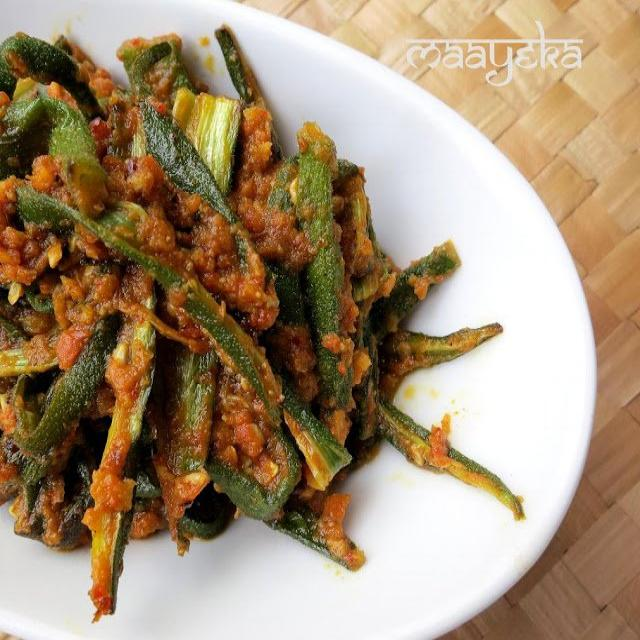Bhindi Masala: (2, 6, 509, 566)
